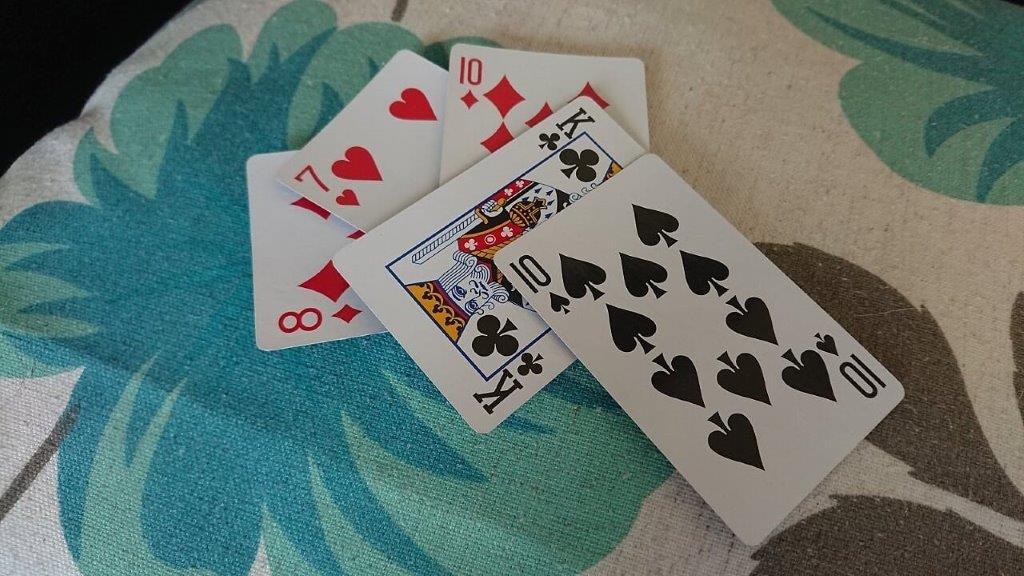10D: (453, 49, 489, 118)
10S: (498, 245, 574, 321)
7H: (287, 155, 366, 215)
KC: (534, 104, 598, 158)
